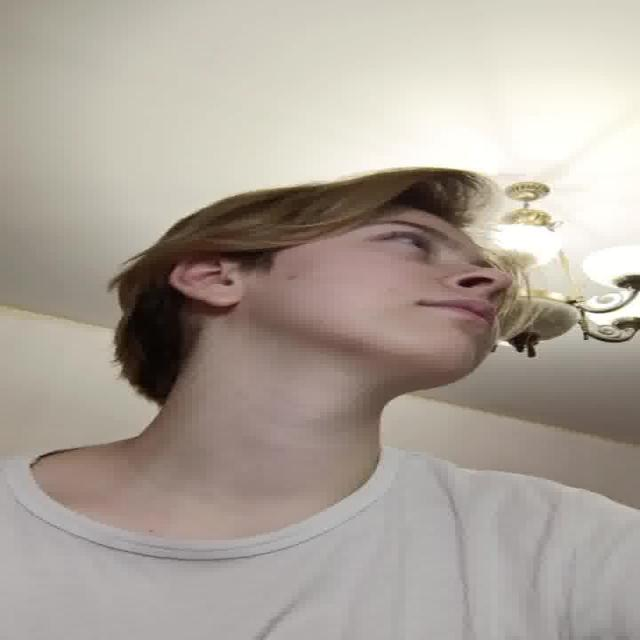earlobe: (166, 256, 244, 310)
